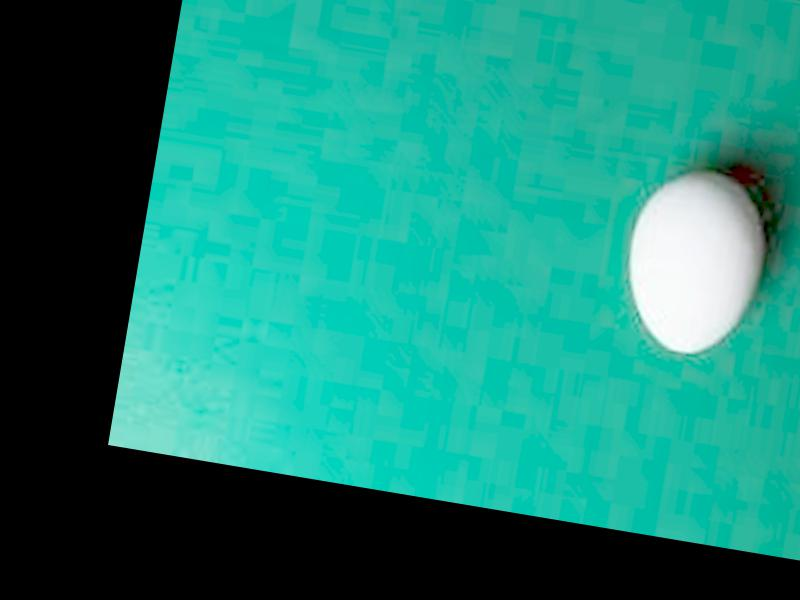Eggs: (609, 161, 769, 360)
